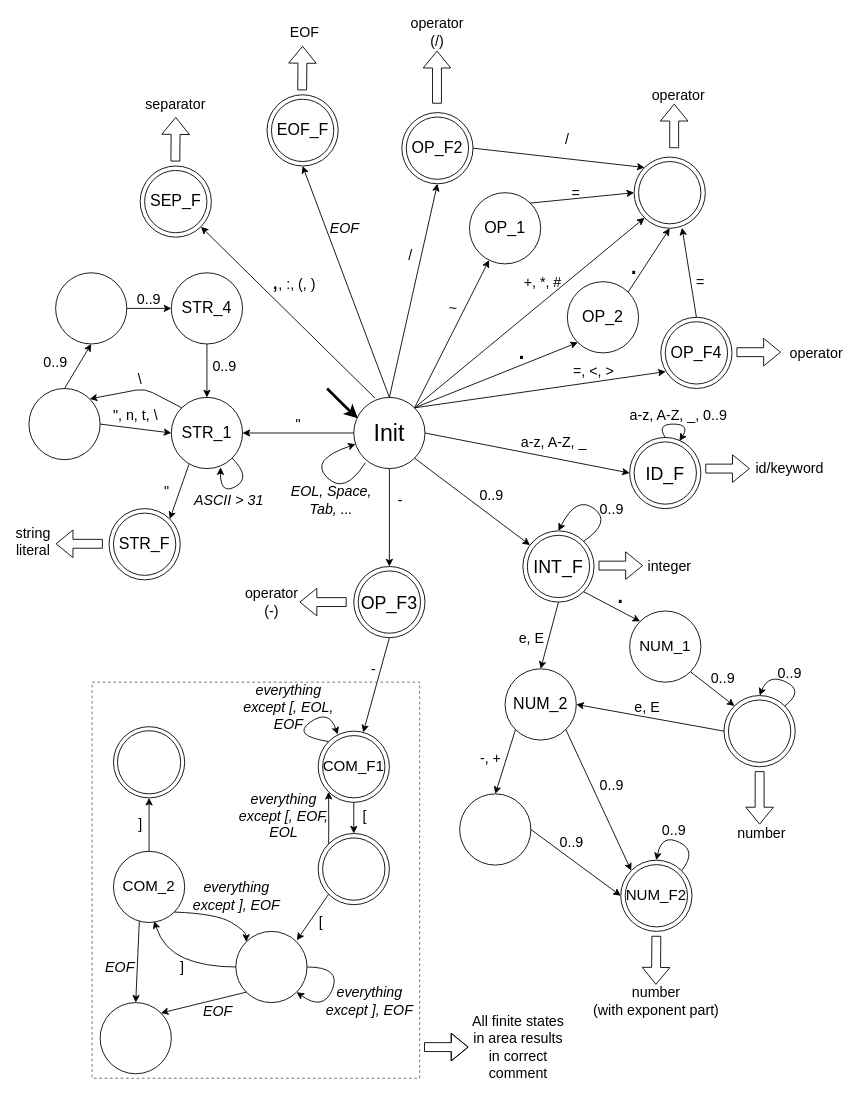
Image size: 858x1096. Some labels were removed from this diagram. The shapes that lost their labels are listed below. From the top down, each one's box as (x1, y1, x2, y2) in pixels, then its label:
(633, 156, 705, 228): OP_F1
(55, 272, 127, 344): STR_3
(28, 388, 100, 460): STR_2
(723, 695, 795, 767): NUM_F1
(113, 726, 185, 798): COM_F3
(459, 793, 531, 865): NUM_3
(317, 833, 389, 905): COM_F2
(235, 930, 307, 1003): COM_1
(99, 1002, 171, 1074): COM_3
